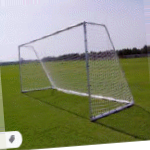goals: (18, 18, 136, 121)
